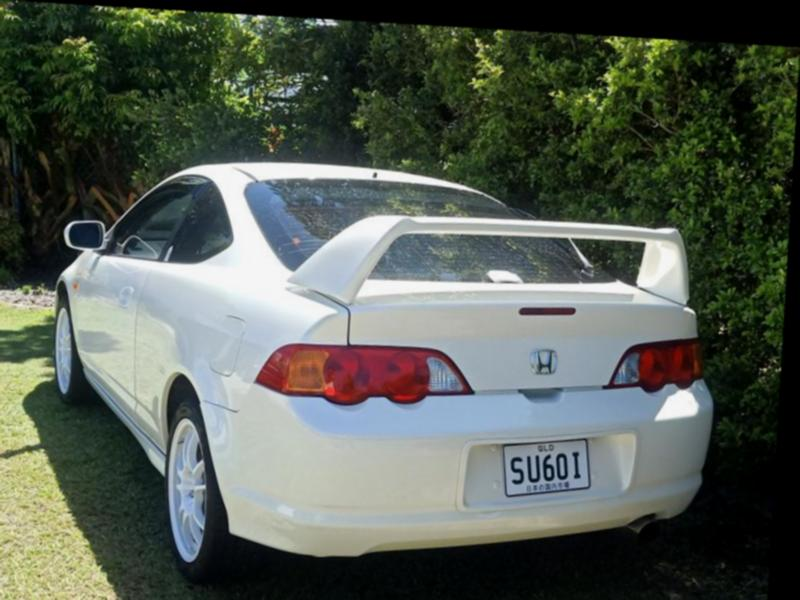License_Plate: (493, 428, 608, 504)
